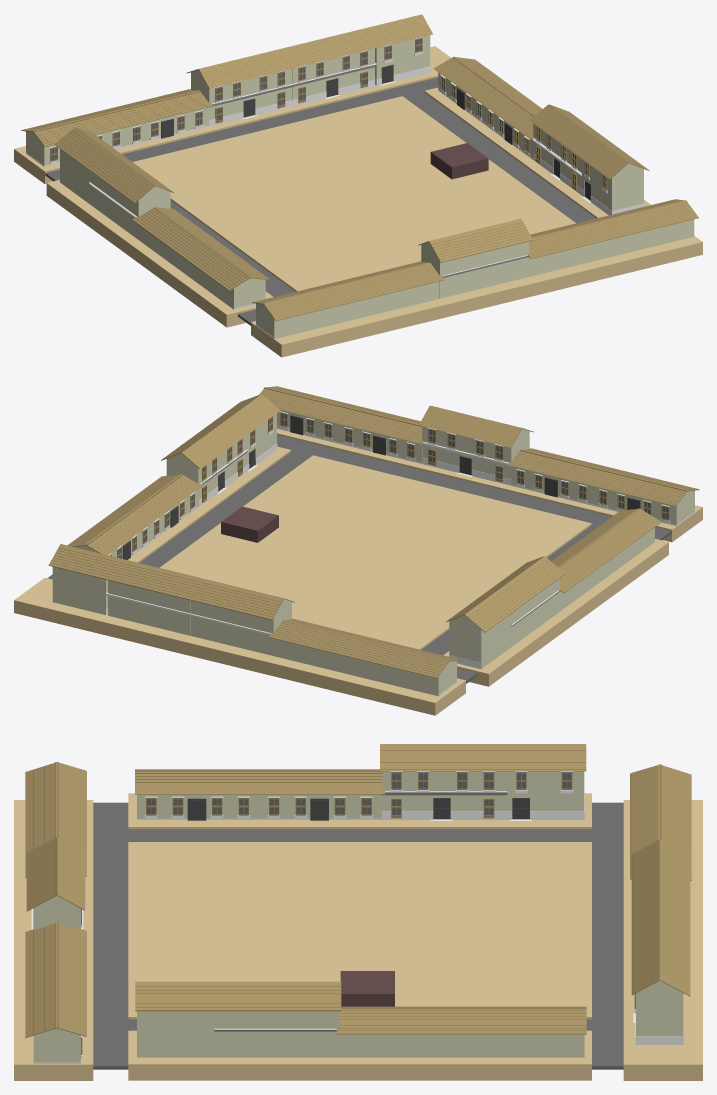
File: escenario.fbx
The picture shows the model from 3 angles, top to bottom: view 1: azimuth 30°, elevation 25°; view 2: azimuth 150°, elevation 25°; view 3: azimuth 270°, elevation 25°; orthographic projection. The views are drawn at different scales.
Parts seen in each view (by area): view 1: pCube436, pCube439, pCube438, group7_pCube35 (×2), group7_pCube36 (×2), pCube433, pCube435, pCube332 (×2), pCube343, pCube440, pCube314 (×2), pCube54 (+30 smaller); view 2: pCube436, pCube440, pCube438, pCube432, pCube307 (×2), pCube54, pCube321 (×2), pCube435, pCube439, pCube86, pCube343, pCube429 (+30 smaller); view 3: pCube436, pCube437, pCube432, pCube433, pCube440, pCube439, pCube434, pCube253, pCube438, pCube375, group7_pCube32, pCube217 (+35 smaller).
Boxes of the visible parts, <box> form: pCube436: <box>133,96,575,291</box>; pCube439: <box>251,236,702,357</box>; pCube438: <box>46,180,273,327</box>; group7_pCube35 (×2): <box>346,200,698,300</box>; group7_pCube36 (×2): <box>263,220,615,321</box>; pCube433: <box>45,77,438,181</box>; pCube435: <box>405,93,595,223</box>; pCube332 (×2): <box>255,239,611,338</box>; pCube343: <box>421,241,528,298</box>; pCube440: <box>14,46,450,183</box>; pCube314 (×2): <box>357,219,694,318</box>; pCube54: <box>191,69,292,126</box>; pCube436: <box>159,455,591,649</box>; pCube440: <box>14,577,465,715</box>; pCube438: <box>443,539,668,686</box>; pCube432: <box>277,435,671,540</box>; pCube307 (×2): <box>336,407,687,506</box>; pCube54: <box>191,599,291,655</box>; pCube321 (×2): <box>259,387,604,485</box>; pCube435: <box>139,452,310,567</box>; pCube439: <box>277,428,702,542</box>; pCube86: <box>108,580,190,635</box>; pCube343: <box>422,426,529,485</box>; pCube429: <box>449,613,511,669</box>; pCube436: <box>128,842,591,1019</box>; pCube437: <box>128,1030,591,1080</box>; pCube432: <box>93,802,130,1069</box>; pCube433: <box>590,802,623,1069</box>; pCube440: <box>623,800,702,1080</box>; pCube439: <box>14,800,93,1080</box>; pCube434: <box>130,829,590,841</box>; pCube253: <box>216,1011,339,1057</box>; pCube438: <box>128,793,591,829</box>; pCube375: <box>382,771,505,819</box>; group7_pCube32: <box>214,981,341,1011</box>; pCube217: <box>137,1011,216,1057</box>.
Size of the model in its own units: 177 by 25.04 by 190.
